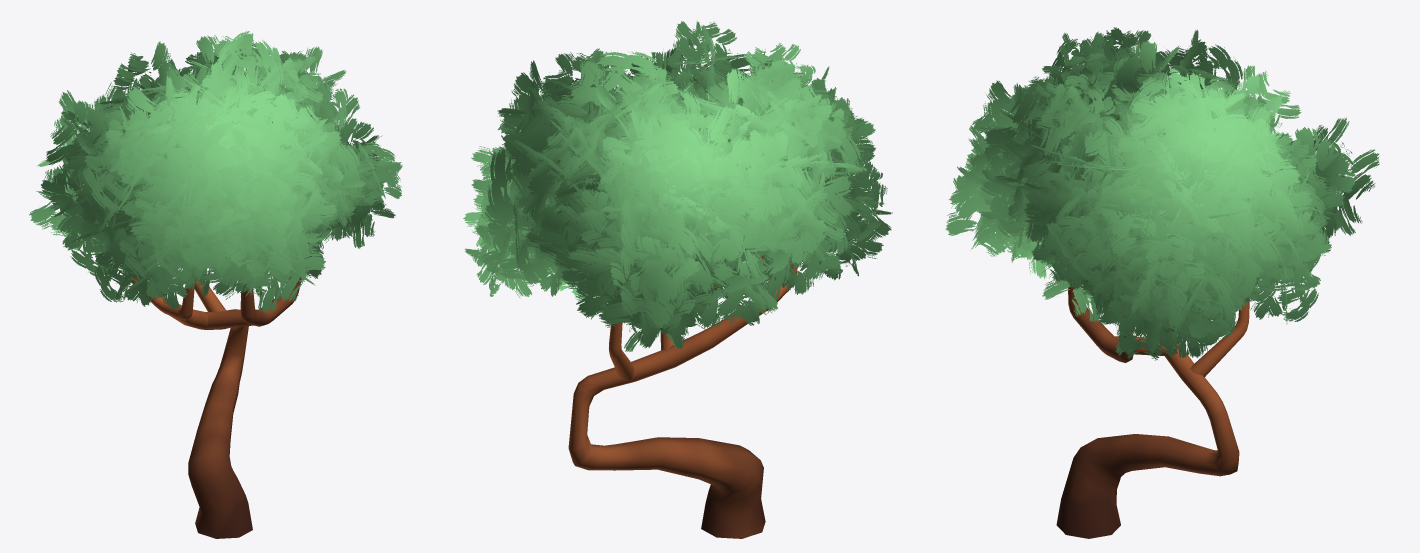
Rendered from STSwiggly4.glb.
3 views of the same model, side by side, from view 1: azimuth 30°, elevation 25°; view 2: azimuth 150°, elevation 25°; view 3: azimuth 270°, elevation 25° (orthographic). The views are drawn at different scales.
Visible parts, largest first — view 1: Leaf.078; view 2: Leaf.078; view 3: Leaf.078.
Boxes of the visible parts, x1=… form: Leaf.078: x1=29, y1=31, x2=402, y2=538; Leaf.078: x1=463, y1=20, x2=892, y2=538; Leaf.078: x1=945, y1=27, x2=1379, y2=538.
Bounding box in the file's own units: 4.67 × 5.96 × 5.2.
2 materials, 2 textured.
